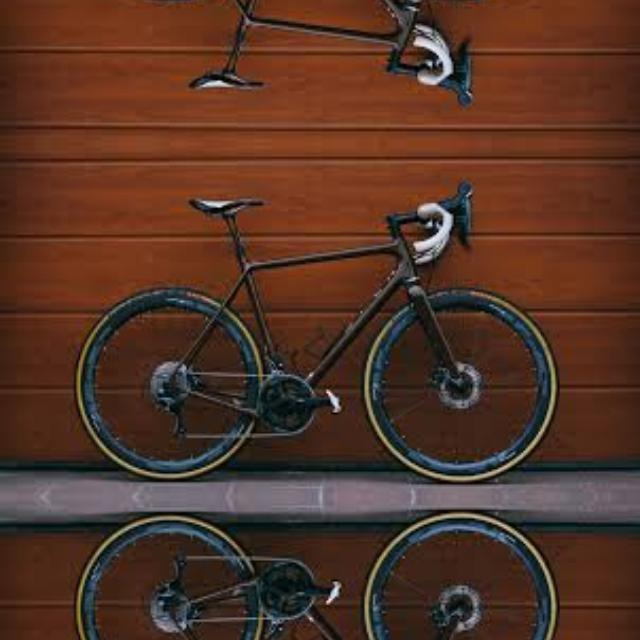obstacle: (70, 156, 592, 484), (70, 508, 591, 640), (70, 0, 591, 130)
